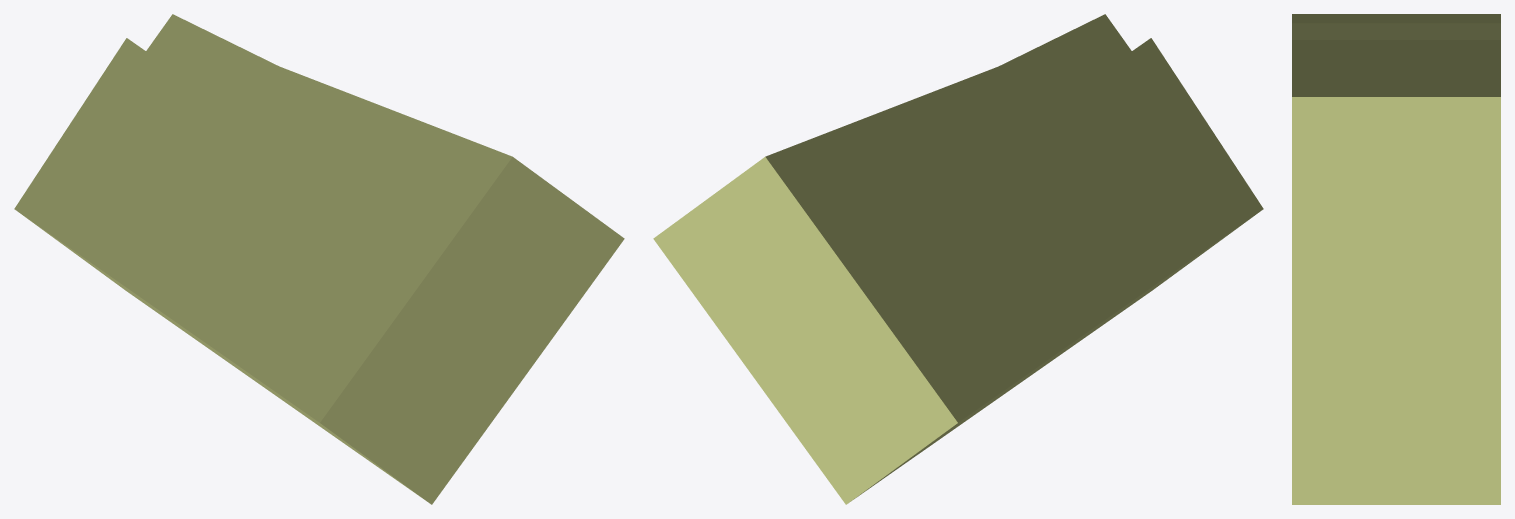
3 views of the same model, side by side, from view 1: azimuth 30°, elevation 25°; view 2: azimuth 150°, elevation 25°; view 3: azimuth 270°, elevation 25° (orthographic). The views are drawn at different scales.
Visible parts, largest first — view 1: 0_1_0_0_0_1_3_0_2_2; view 2: 0_1_0_0_0_1_3_0_2_2; view 3: 0_1_0_0_0_1_3_0_2_2.
Boxes of the visible parts, bbox=[...] form: 0_1_0_0_0_1_3_0_2_2: bbox=[14, 14, 624, 504]; 0_1_0_0_0_1_3_0_2_2: bbox=[653, 14, 1263, 504]; 0_1_0_0_0_1_3_0_2_2: bbox=[1292, 14, 1500, 504].
Size of the model in its own units: 15.41 by 13.14 by 6.
